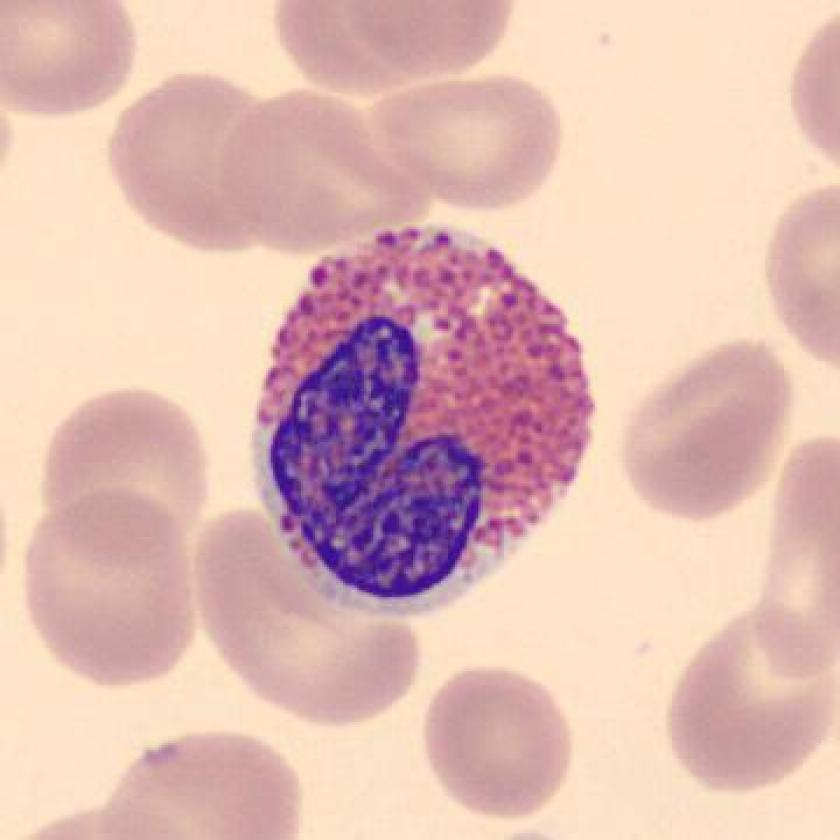eosinophil: (241, 216, 610, 626)
